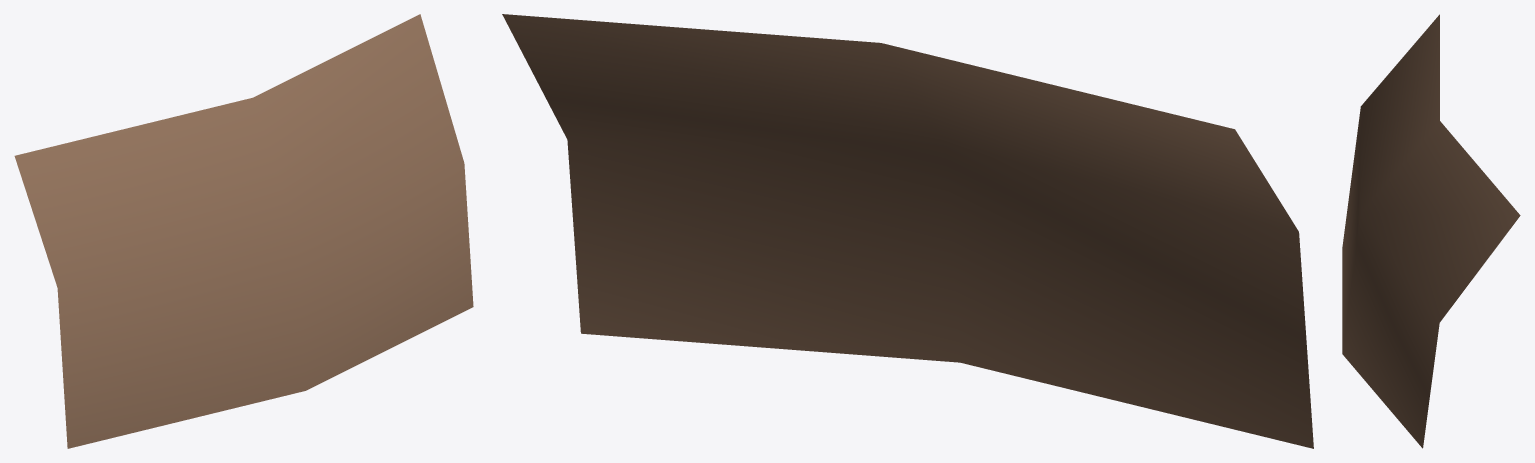
Rendered from GrassPlane_b_OneS_04.fbx.
The picture shows the model from 3 angles, left to right: view 1: azimuth 30°, elevation 25°; view 2: azimuth 150°, elevation 25°; view 3: azimuth 270°, elevation 25°; orthographic projection. The views are drawn at different scales.
Parts seen in each view (by area): view 1: GrassPlane_b_OneS_04; view 2: GrassPlane_b_OneS_04; view 3: GrassPlane_b_OneS_04.
Part boxes in pixels (x1,y1,x2,y2): GrassPlane_b_OneS_04: (14, 14, 473, 448); GrassPlane_b_OneS_04: (502, 14, 1313, 448); GrassPlane_b_OneS_04: (1342, 14, 1520, 448).
Size of the model in its own units: 95.18 by 51.4 by 35.56.
